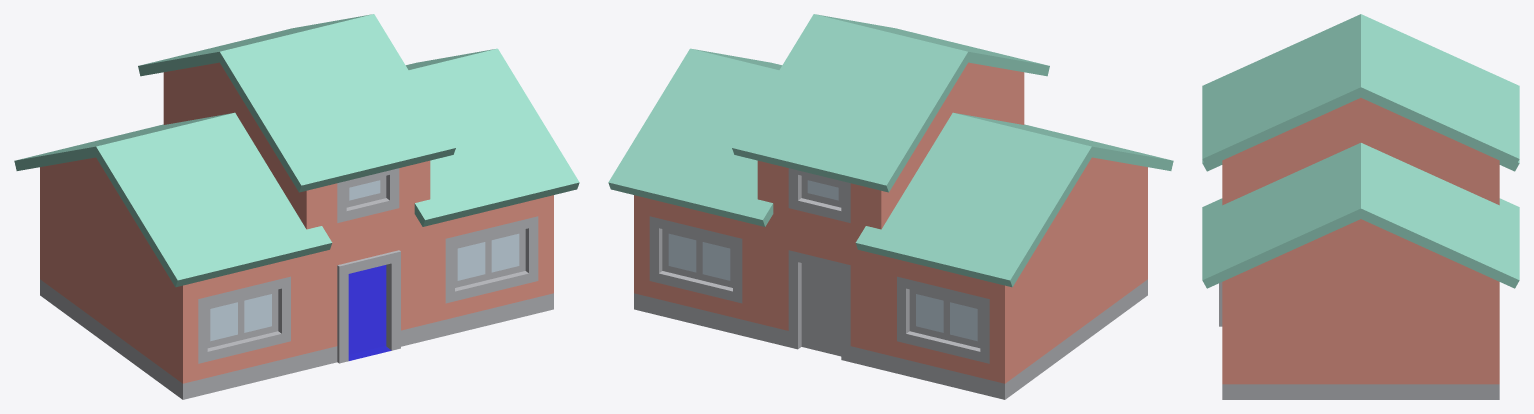
Rendered from player_house.glb.
3 views of the same model, side by side, from view 1: azimuth 30°, elevation 25°; view 2: azimuth 150°, elevation 25°; view 3: azimuth 270°, elevation 25° (orthographic). The views are drawn at different scales.
Visible parts, largest first — view 1: house_exterior, house_interior; view 2: house_exterior; view 3: house_exterior.
Boxes of the visible parts, <box> form: house_exterior: <box>14,14,579,399</box>; house_interior: <box>348,265,391,360</box>; house_exterior: <box>608,14,1173,399</box>; house_exterior: <box>1202,14,1519,399</box>.
Bounding box in the file's own units: 11.05 × 7.09 × 7.79.
